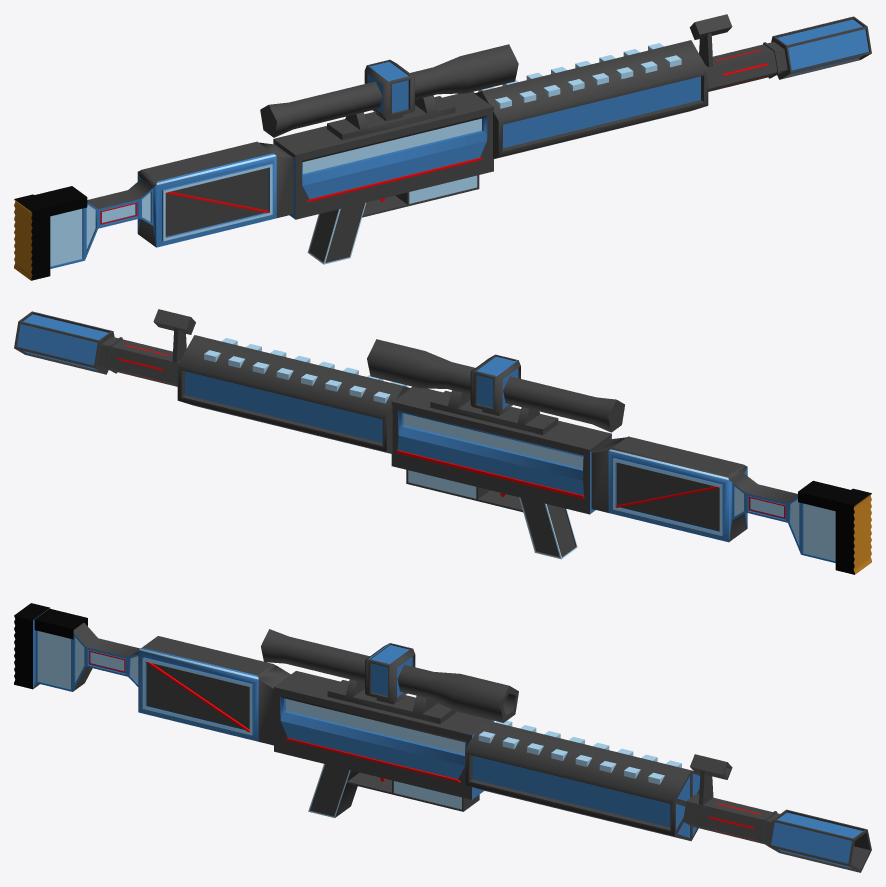
File: Sniper.fbx
The picture shows the model from 3 angles, top to bottom: view 1: azimuth 30°, elevation 25°; view 2: azimuth 150°, elevation 25°; view 3: azimuth 330°, elevation 25°; orthographic projection.
Parts seen in each view (by area): view 1: Cube, Cylindre_2, Cylindre_3, Cylindre, Cube_7, Cube_1, Cube_2, Cube_5, Cube_3, Cylindre_1; view 2: Cube, Cylindre_2, Cylindre_3, Cylindre, Cube_7, Cube_1, Cube_2, Cube_5, Cube_3, Cylindre_1; view 3: Cube, Cylindre_2, Cylindre, Cylindre_3, Cube_1, Cube_2, Cube_7, Cube_5, Cube_3, Cylindre_1.
Boxes of the visible parts, box(x1,y1,x2,y2) form: Cube: box(14, 92, 493, 280); Cylindre_2: box(474, 40, 708, 158); Cylindre_3: box(260, 44, 518, 137); Cylindre: box(699, 16, 871, 91); Cube_7: box(307, 202, 366, 264); Cube_1: box(327, 95, 455, 140); Cube_2: box(364, 59, 414, 121); Cube_5: box(362, 175, 479, 217); Cube_3: box(34, 186, 87, 216); Cylindre_1: box(689, 14, 732, 39); Cube: box(391, 386, 871, 574); Cylindre_2: box(177, 335, 410, 453); Cylindre_3: box(367, 339, 624, 432); Cylindre: box(14, 311, 186, 386); Cube_7: box(519, 497, 577, 559); Cube_1: box(430, 390, 558, 434); Cube_2: box(470, 354, 520, 415); Cube_5: box(406, 470, 522, 512); Cube_3: box(798, 480, 850, 511); Cylindre_1: box(153, 309, 195, 334); Cube: box(14, 603, 494, 799); Cylindre_2: box(465, 719, 700, 841); Cylindre: box(683, 770, 871, 872); Cylindre_3: box(261, 629, 518, 722); Cube_1: box(327, 679, 455, 724); Cube_2: box(365, 643, 415, 704); Cube_7: box(308, 764, 359, 817); Cube_5: box(346, 772, 479, 811); Cube_3: box(34, 608, 87, 639); Cylindre_1: box(690, 754, 732, 779).
Bounding box in the file's own units: 2075 × 402 × 145.
